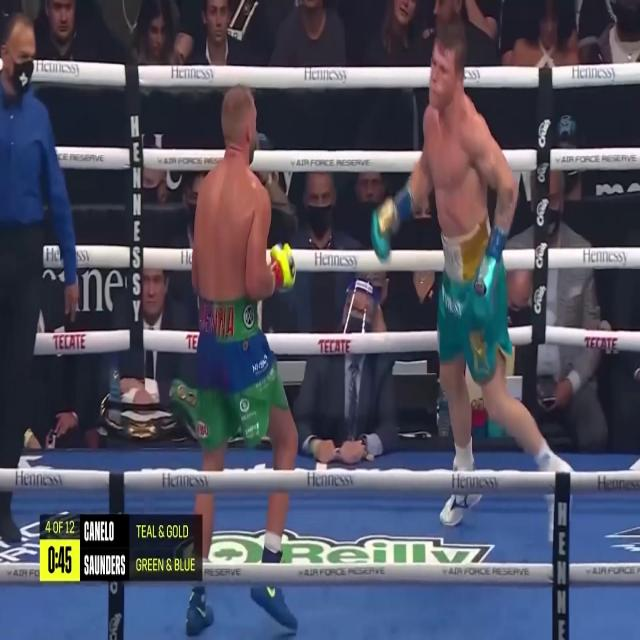boxer_1: (192, 86, 276, 302), (270, 408, 296, 463)
boxer_2: (409, 22, 518, 236)
gloves_1: (270, 242, 296, 289)
gloves_2: (470, 226, 508, 327), (371, 184, 413, 260)
